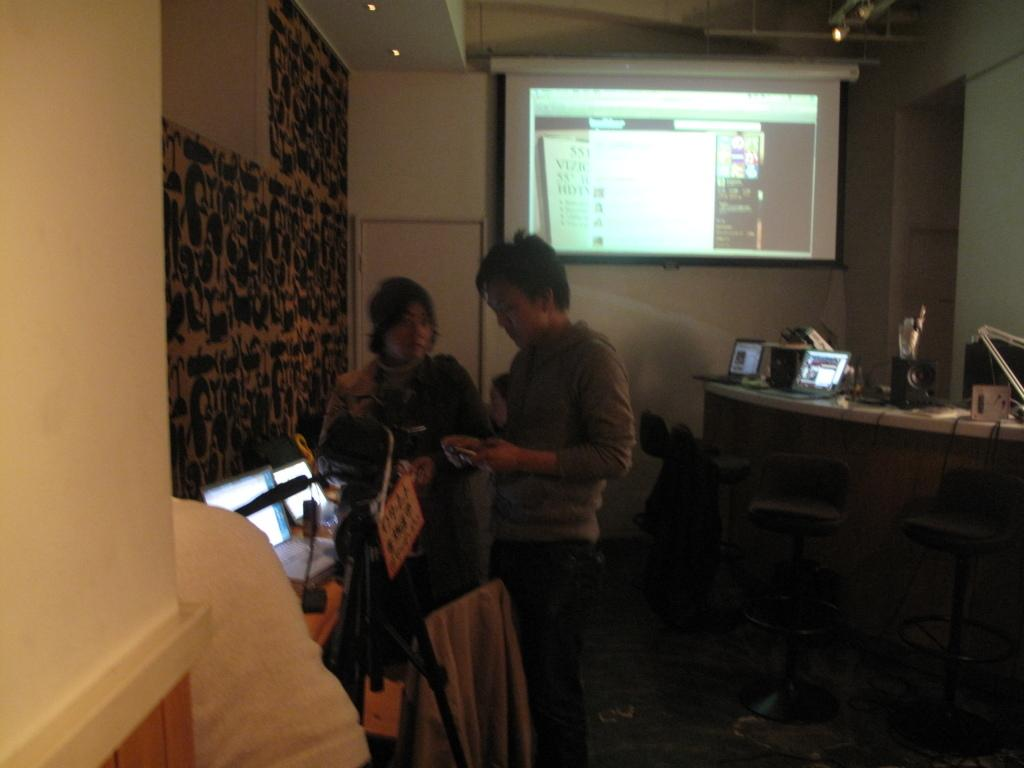Chair: (892, 463, 1023, 767), (746, 453, 852, 728), (676, 428, 757, 657), (638, 410, 720, 631)
